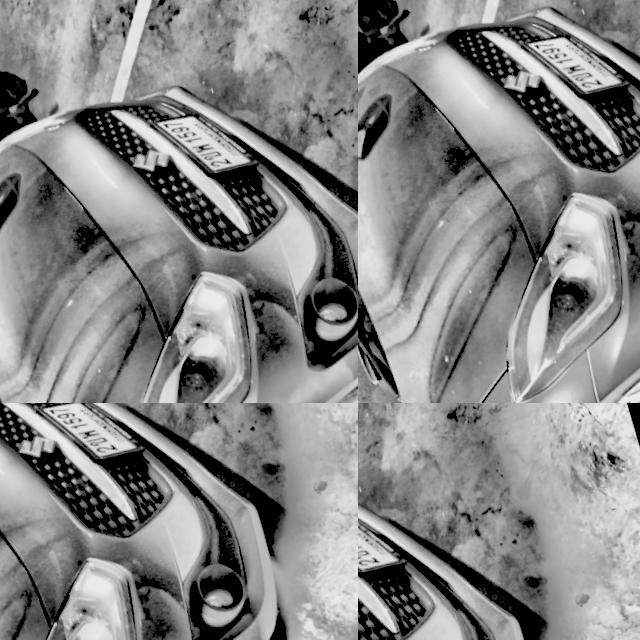license-plate: (358, 494, 404, 599)
